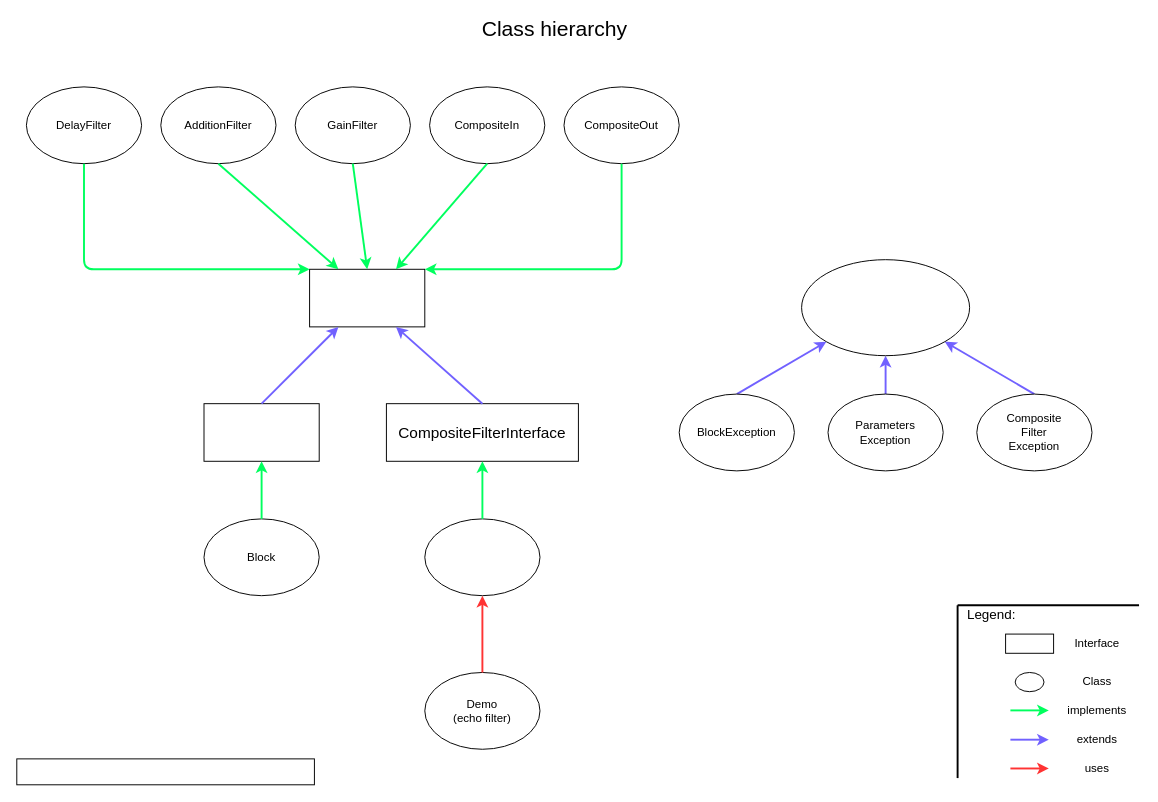
The diagram is 1158 pixels wide and 802 high, and some of its shapes have lost their labels. The shapes that lost their labels are listed below. From the top down, each one's centre as x and y in pixels, then its label:
At point 367,297: "Filter".
At point 885,307: "java.lang.Exception".
At point 261,432: "BlockInterface".
At point 482,557: "CompositeFilter".
At point 165,771: "Maxime GOFFART (180521) & Olivier JORIS (182113)".
